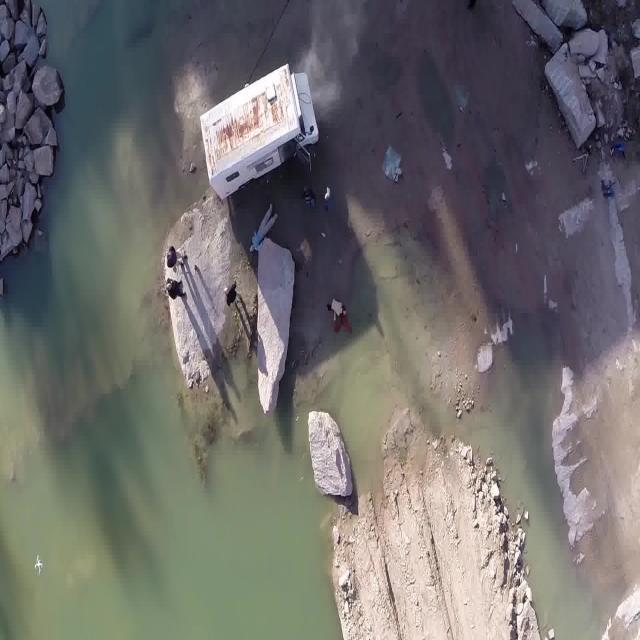Smoke: (308, 12, 362, 102)
